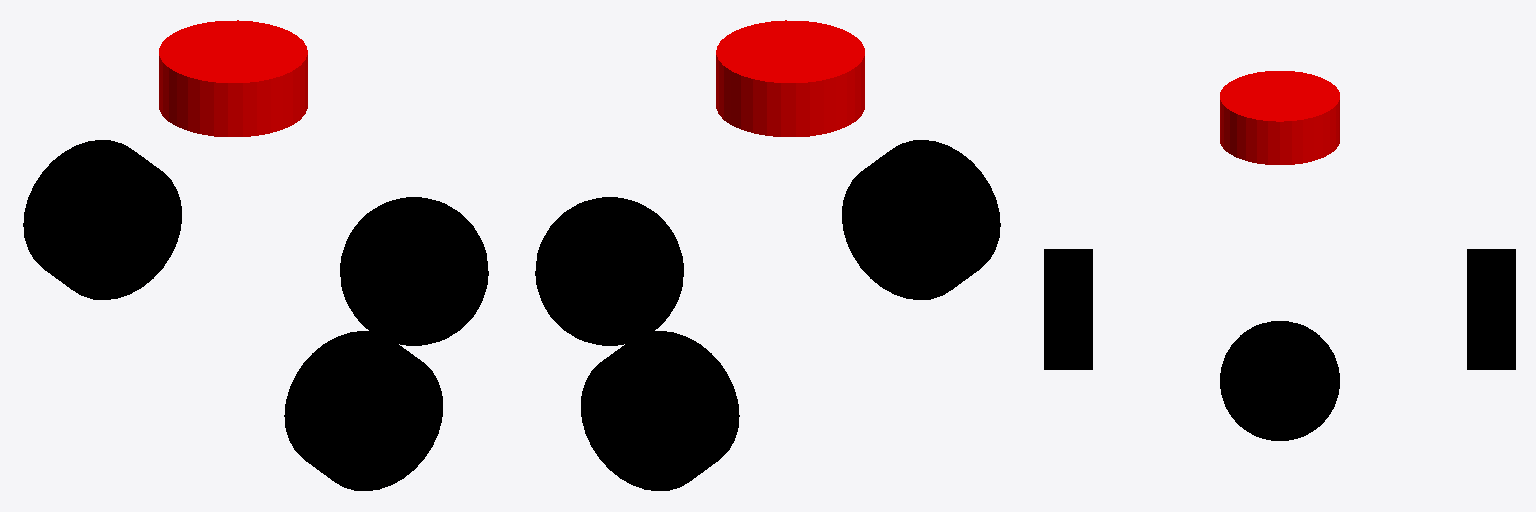
robot.urdf — robot:
<?xml version="1.0" ?><!-- =================================================================================== --><!-- |    This document was autogenerated by xacro from [local-path]/ros2_ws/install/pathfinder/share/pathfinder/description/robot.urdf.xacro | --><!-- |    EDITING THIS FILE BY HAND IS NOT RECOMMENDED                                 | --><!-- =================================================================================== --><robot><!-- Standard inertial calculations https://en.wikipedia.org/wiki/List_of_moments_of_inertia --><!--materials--><material name="white"><color rgba="1 1 1 1"/></material><material name="black"><color rgba="0 0 0 1"/></material><material name="red"><color rgba="1 0 0 1"/></material><material name="fontys_purple"><color rgba="0.4 0.2 0.4 1"/></material><!-- BASE LINK --><link name="base_link">
     </link><!-- CHASSIS LINK --><joint name="chassis_joint" type="fixed"><parent link="base_link"/><child link="chassis"/><origin xyz="-0.1 0 0"/></joint><link name="chassis"><visual><origin rpy="0 0 1.5707963267948966" xyz="0.15 0 0"/><geometry><mesh filename="file://[local-path]/ros2_ws/install/pathfinder/share/pathfinder/description/meshes/pathfinder_chassis.stl" scale="0.001 0.001 0.001"/><!-- scale is in meters --></geometry><material name="fontys_purple"/></visual><collision><origin xyz="0.15 0 0.075"/><geometry><box size="0.3 0.3 0.15"/></geometry></collision><inertial><origin rpy="0 0 0" xyz="0.15 0 0.075"/><mass value="0.5"/><inertia ixx="0.004687499999999999" ixy="0.0" ixz="0.0" iyy="0.004687499999999999" iyz="0.0" izz="0.0075"/></inertial></link><!-- LEFT WHEEL LINK --><joint name="left_wheel_joint" type="continuous"><parent link="base_link"/><child link="left_wheel"/><origin rpy="-1.5707963267948966 0 0" xyz="0 0.175 0"/><axis xyz="0 0 1"/></joint><link name="left_wheel"><visual><geometry><cylinder length="0.04" radius="0.05"/></geometry><material name="black"/></visual><collision><geometry><cylinder length="0.04" radius="0.05"/></geometry></collision><inertial><origin rpy="0 0 0" xyz="0 0 0"/><mass value="0.1"/><inertia ixx="7.583333333333335e-05" ixy="0.0" ixz="0.0" iyy="7.583333333333335e-05" iyz="0.0" izz="0.00012500000000000003"/></inertial></link><gazebo reference="left_wheel"><material>Gazebo/Black</material></gazebo><!-- RIGHT WHEEL LINK --><joint name="right_wheel_joint" type="continuous"><parent link="base_link"/><child link="right_wheel"/><origin rpy="1.5707963267948966 0 0" xyz="0 -0.175 0"/><axis xyz="0 0 -1"/></joint><link name="right_wheel"><visual><geometry><cylinder length="0.04" radius="0.05"/></geometry><material name="black"/></visual><collision><geometry><cylinder length="0.04" radius="0.05"/></geometry></collision><inertial><origin rpy="0 0 0" xyz="0 0 0"/><mass value="0.1"/><inertia ixx="7.583333333333335e-05" ixy="0.0" ixz="0.0" iyy="7.583333333333335e-05" iyz="0.0" izz="0.00012500000000000003"/></inertial></link><gazebo reference="right_wheel"><material>Gazebo/Black</material></gazebo><!-- CASTER WHEEL LINK --><joint name="caster_wheel_joint" type="fixed"><parent link="chassis"/><child link="caster_wheel"/><origin xyz="0.24 0 0"/></joint><link name="caster_wheel"><visual><geometry><sphere radius="0.05"/></geometry><material name="black"/></visual><collision><geometry><sphere radius="0.05"/></geometry></collision><inertial><origin rpy="0 0 0" xyz="0 0 0"/><mass value="0.1"/><inertia ixx="0.00010000000000000005" ixy="0.0" ixz="0.0" iyy="0.00010000000000000005" iyz="0.0" izz="0.00010000000000000005"/></inertial></link><gazebo reference="caster_wheel"><material>Gazebo/Black</material><mu1 value="0.001"/><!-- friction --><mu2 value="0.001"/></gazebo><gazebo><plugin filename="libgazebo_ros_diff_drive.so" name="diff_drive"><ros><!--<namespace>--><!--<remapping tf>--></ros><!-- Wheel Information --><left_joint>left_wheel_joint</left_joint><right_joint>right_wheel_joint</right_joint><wheel_separation>0.35</wheel_separation><wheel_diameter>0.1</wheel_diameter><!-- Limits --><max_wheel_torque>180</max_wheel_torque><max_wheel_acceleration>8.0</max_wheel_acceleration><!-- Output --><odometry_frame>odom</odometry_frame><robot_base_frame>base_link</robot_base_frame><publish_odom>true</publish_odom><publish_odom_tf>true</publish_odom_tf><publish_wheel_tf>true</publish_wheel_tf></plugin></gazebo><joint name="lidar_joint" type="fixed"><parent link="chassis"/><child link="laser_frame"/><origin rpy="0 0 0" xyz="0.1 0 0.175"/></joint><link name="laser_frame"><visual><geometry><cylinder length="0.04" radius="0.05"/></geometry><material name="red"/></visual><collision><geometry><cylinder length="0.04" radius="0.05"/></geometry></collision><inertial><origin rpy="0 0 0" xyz="0 0 0"/><mass value="0.1"/><inertia ixx="7.583333333333335e-05" ixy="0.0" ixz="0.0" iyy="7.583333333333335e-05" iyz="0.0" izz="0.00012500000000000003"/></inertial></link><gazebo reference="laser_frame"><material>Gazebo/Red</material><sensor name="laser" type="ray"><pose> 0 0 0 0 0 0 </pose><visualize>true</visualize><update_rate>10</update_rate><ray><scan><horizontal><samples>360</samples><min_angle>-3.14</min_angle><max_angle>3.14</max_angle></horizontal></scan><range><min>0.3</min><max>10</max></range></ray><plugin filename="libgazebo_ros_ray_sensor.so" name="laser_controller"><ros><argument>~/out:=scan</argument></ros><output_type>sensor_msgs/LaserScan</output_type><frame_name>laser_frame</frame_name></plugin></sensor></gazebo></robot>

--- Facts derived from the render (not from the file) ---
Views: 3 orthographic renders of the robot side by side, from view 1: azimuth 30°, elevation 25°; view 2: azimuth 150°, elevation 25°; view 3: azimuth 270°, elevation 25°.
Robot: robot — 6 links, 5 joints (2 continuous, 3 fixed); root link base_link; default pose: all joints at 0.
Links seen in each view (by area): view 1: left_wheel, right_wheel, caster_wheel, laser_frame; view 2: right_wheel, left_wheel, caster_wheel, laser_frame; view 3: caster_wheel, laser_frame, left_wheel, right_wheel.
Link boxes in pixels (x1,y1,x2,y2): left_wheel: (23, 140, 181, 299); right_wheel: (284, 331, 442, 490); caster_wheel: (340, 197, 488, 345); laser_frame: (159, 20, 307, 136); right_wheel: (842, 140, 1000, 299); left_wheel: (581, 331, 739, 490); caster_wheel: (535, 197, 683, 345); laser_frame: (716, 20, 864, 136); caster_wheel: (1220, 321, 1339, 440); laser_frame: (1220, 71, 1339, 164); left_wheel: (1467, 249, 1515, 369); right_wheel: (1044, 249, 1092, 369).
Bounding box of the posed robot: 0.24 × 0.39 × 0.245 m (x, y, z).
Geometry: only primitive shapes (box / cylinder / sphere) drawn; not drawn: 1 mesh visual (reference in a form the renderer does not follow).
